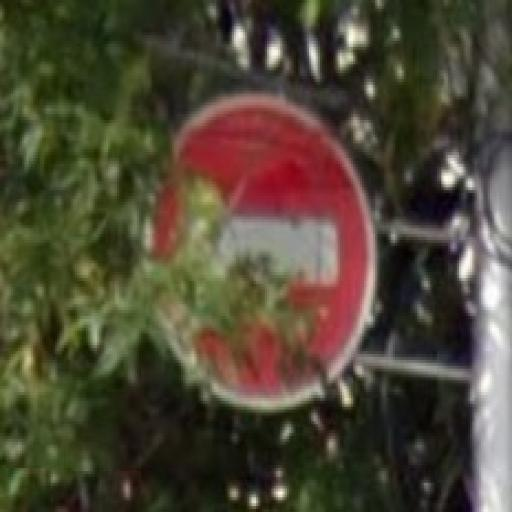traffic_sign: (142, 95, 381, 411)
